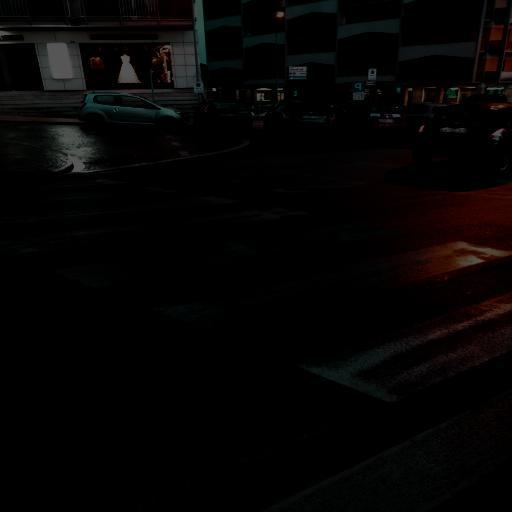crosswalk: (42, 209, 512, 351)
